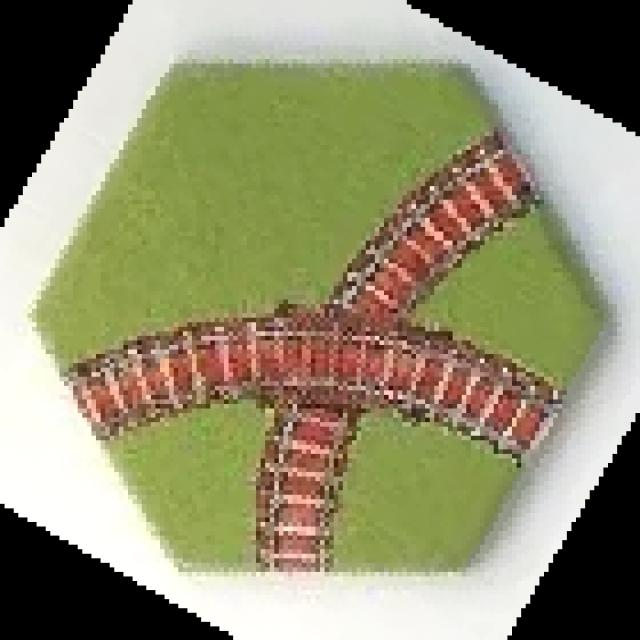7_1: (32, 64, 608, 581)
